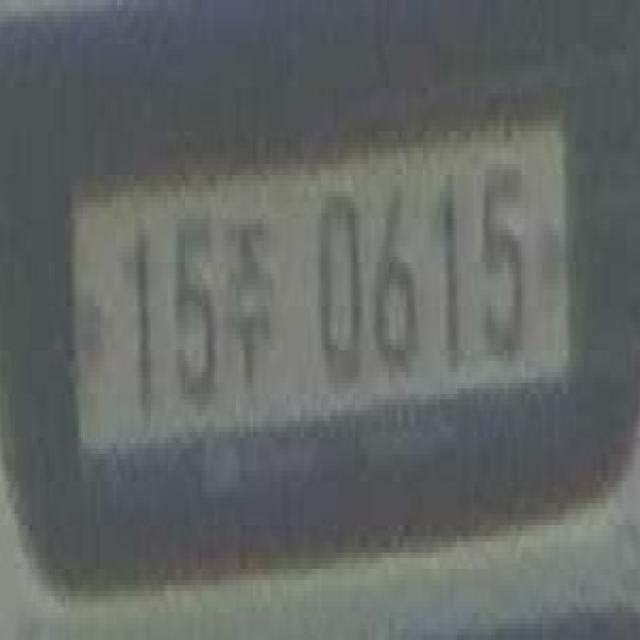0: (310, 164, 370, 399)
1: (421, 131, 474, 383), (115, 202, 164, 427)
5: (474, 142, 538, 378), (168, 192, 221, 421)
6: (368, 143, 427, 400)
ju: (217, 180, 283, 405)
license_plate: (59, 82, 580, 525)
